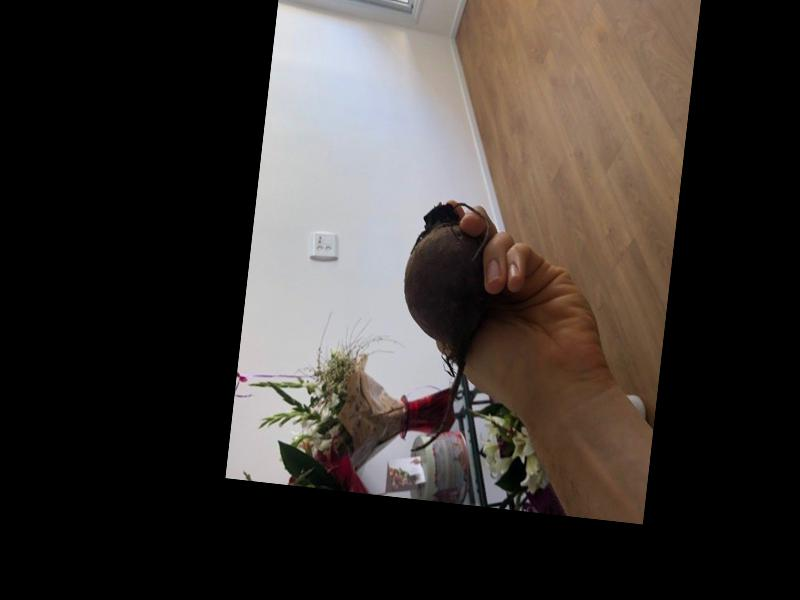Beet: (386, 197, 500, 457)
